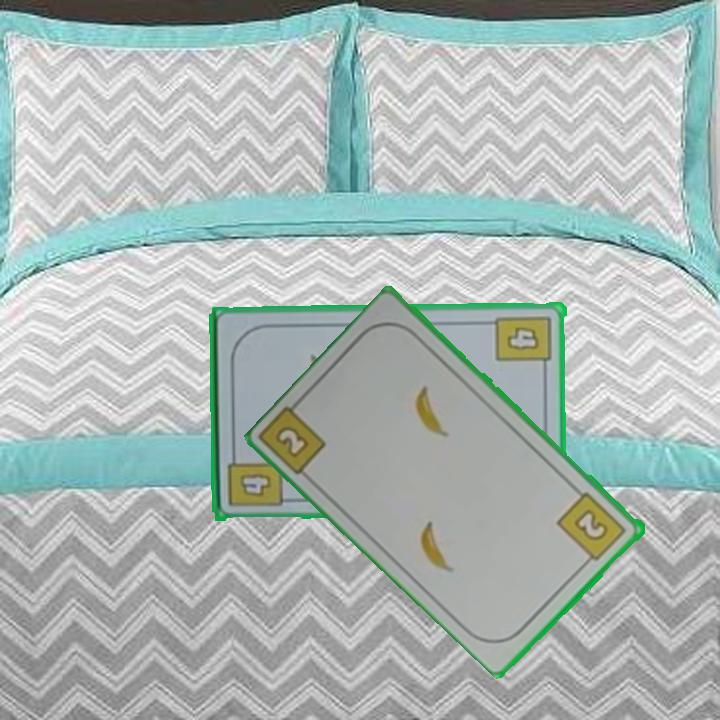2b: (554, 488, 630, 569), (272, 421, 313, 461)
4b: (493, 311, 555, 375), (223, 446, 285, 509)
